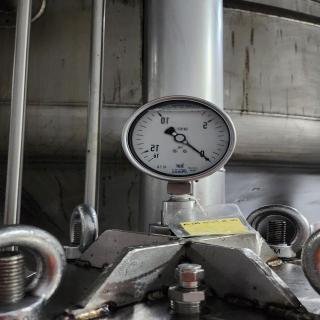gauge: (121, 95, 238, 183), (198, 149, 214, 169), (144, 152, 160, 166), (176, 135, 184, 141), (207, 160, 213, 166)
